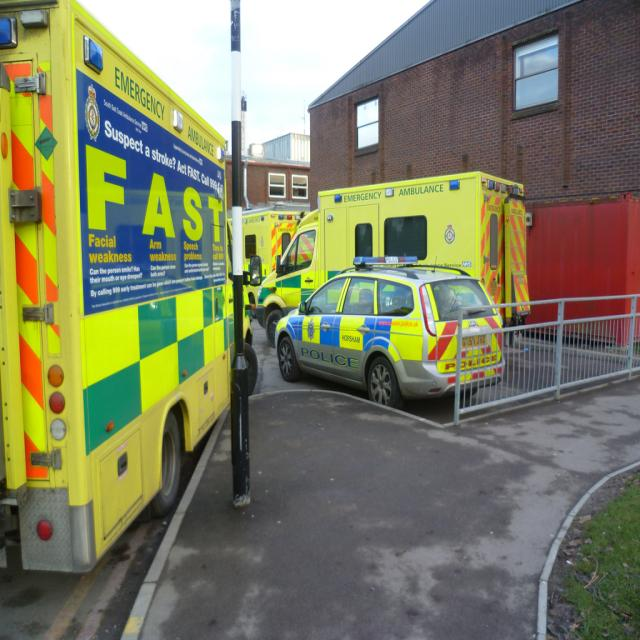no_fire: (11, 41, 640, 572)
